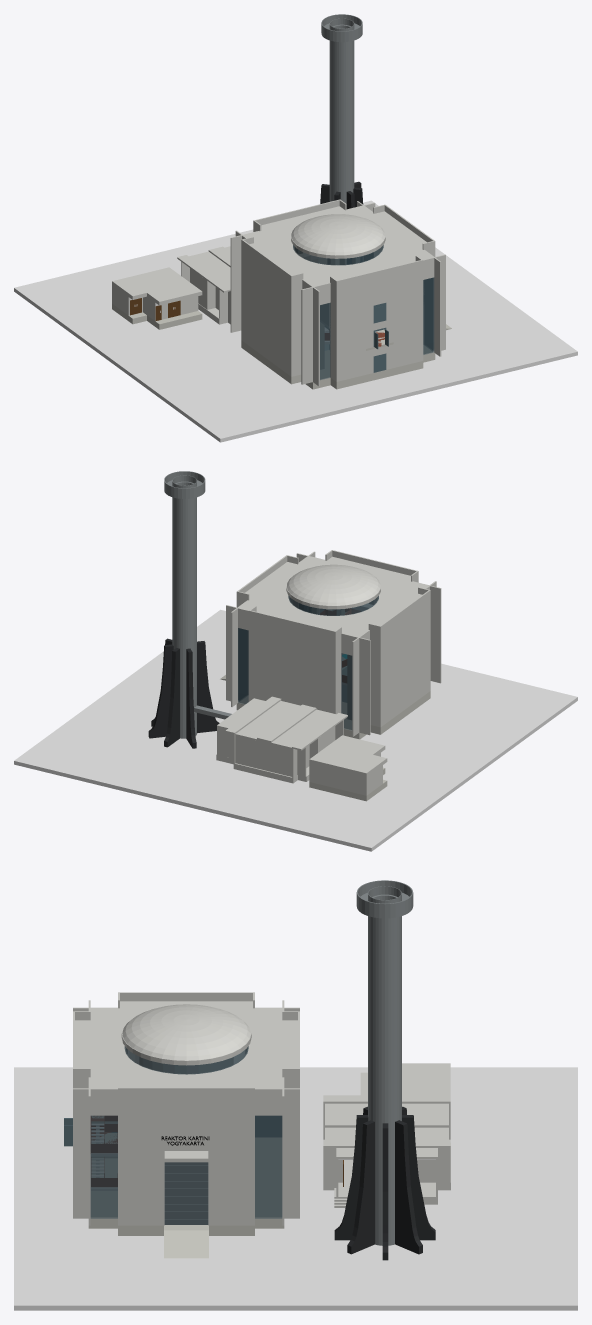
File: Dipersatukan.glb
3 views of the same model, one above another, from view 1: azimuth 30°, elevation 25°; view 2: azimuth 150°, elevation 25°; view 3: azimuth 270°, elevation 25° (orthographic). The views are drawn at different scales.
Parts seen in each view (by area): view 1: Cube.362, Cube.017, Cube.206, Cube.541, Cerobong, Sphere.003, Cube.297, Cube.008, Cube.210, Cube.003, Cube.099, Cube.365 (+5 smaller); view 2: Cube.362, Cube.017, Cube.297, Cube.206, Cerobong, Cube.541, Cube.007, Sphere.003, Cube.008, Cube.210, Cube.003, Cube.086 (+4 smaller); view 3: Cube.362, Cube.017, Cube.206, Cerobong, Cube.007, Cube.297, Cube.003, Sphere.003, Cube.541, Cube.099, Cube.357, Cube.063 (+9 smaller).
Part boxes in pixels (<box>): Cube.362: <box>14,200,577,442</box>; Cube.017: <box>241,199,435,381</box>; Cube.206: <box>243,206,433,286</box>; Cube.541: <box>230,201,445,386</box>; Cerobong: <box>329,40,354,203</box>; Sphere.003: <box>291,214,385,255</box>; Cube.297: <box>177,246,230,324</box>; Cube.008: <box>241,205,434,381</box>; Cube.210: <box>112,267,202,305</box>; Cube.003: <box>320,253,434,380</box>; Cube.099: <box>241,340,435,389</box>; Cube.365: <box>366,293,393,374</box>; Cube.362: <box>14,609,577,851</box>; Cube.017: <box>236,550,430,727</box>; Cube.297: <box>216,696,347,783</box>; Cube.206: <box>239,556,428,637</box>; Cerobong: <box>172,497,196,738</box>; Cube.541: <box>226,551,441,736</box>; Cube.007: <box>148,638,219,748</box>; Sphere.003: <box>287,564,380,605</box>; Cube.008: <box>237,555,430,726</box>; Cube.210: <box>309,735,387,776</box>; Cube.003: <box>238,604,352,730</box>; Cube.086: <box>309,753,382,795</box>; Cube.362: <box>14,1067,577,1310</box>; Cube.017: <box>73,992,299,1225</box>; Cube.206: <box>75,1001,297,1088</box>; Cerobong: <box>368,916,401,1245</box>; Cube.007: <box>334,1106,435,1260</box>; Cube.297: <box>323,1095,450,1207</box>; Cube.003: <box>90,1115,282,1218</box>; Sphere.003: <box>122,1004,250,1060</box>; Cube.541: <box>73,1000,299,1225</box>; Cube.099: <box>88,1137,284,1235</box>; Cube.357: <box>164,1162,208,1224</box>; Cube.063: <box>164,1096,208,1150</box>.
Bounding box in the file's own units: 50 × 34.4 × 50.
